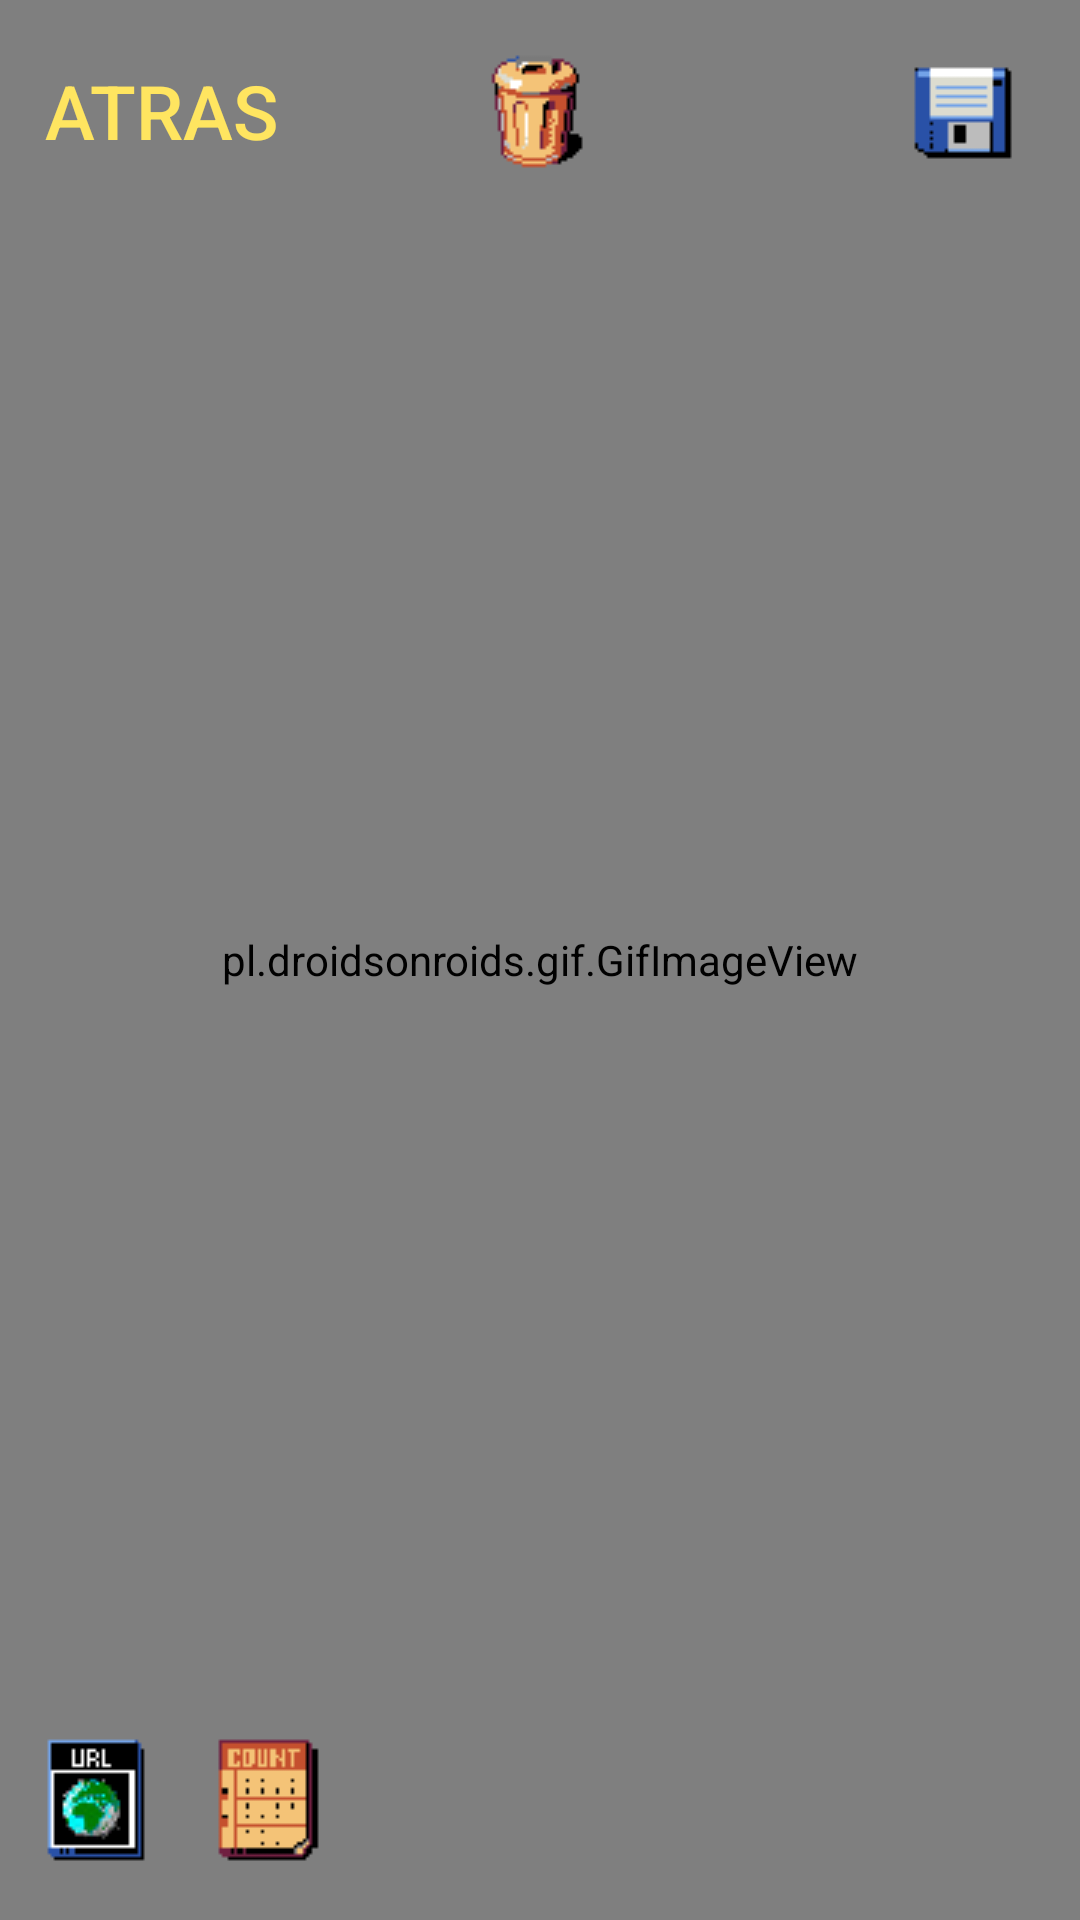

Icon click points for this 1080×1920 phone screenshot, format point (x, y):
componente guardar: point (963, 113)
componente limpiar: point (537, 111)
